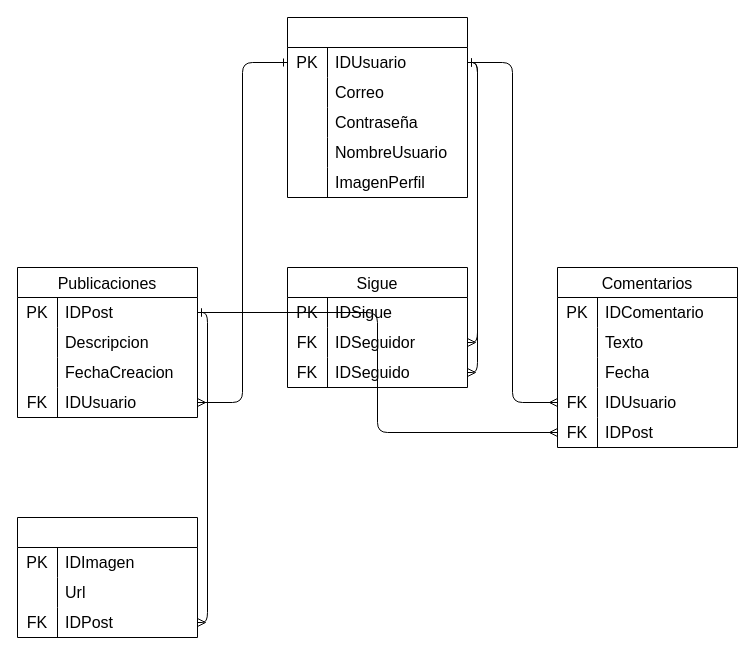
Some shapes in this 755 by 655 pixel diagram are drawn without their labels. The box of each missing label's shape, as (x1, y1, x2, y2) in pixels:
ImagenesPost: (16, 516, 198, 638)
Usuarios: (286, 16, 468, 198)
